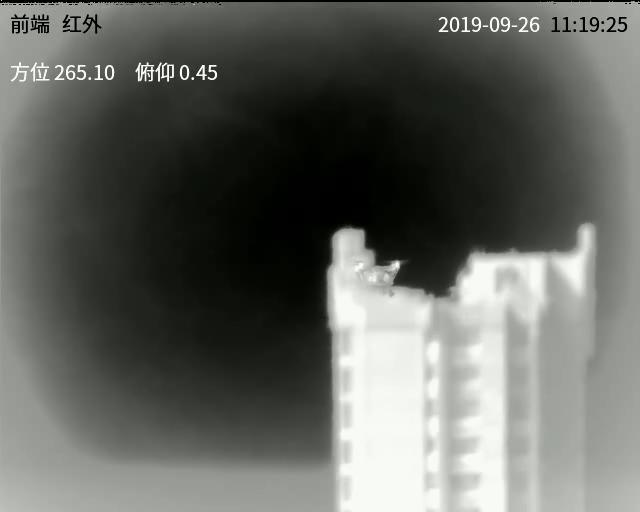uav: (343, 252, 407, 299)
